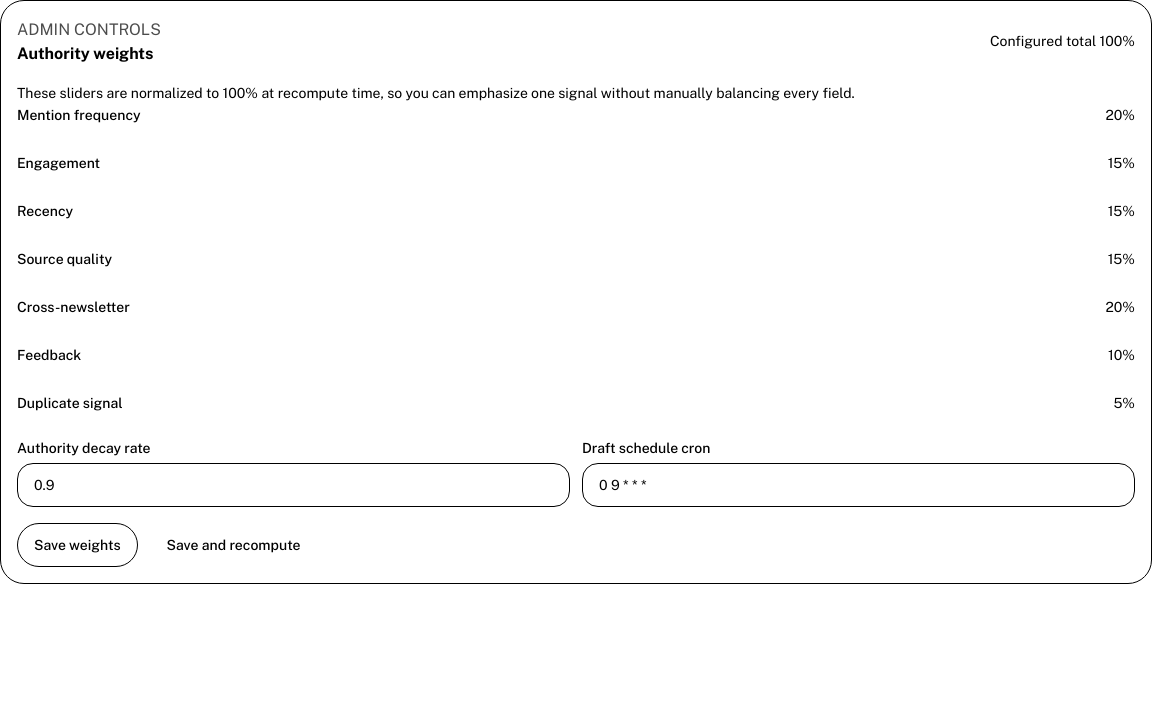
Test: AuthorityWeightControls › saves and recomputes when requested
Click the button "Save and recompute" at coordinates (234, 545), box [150,523,318,567]
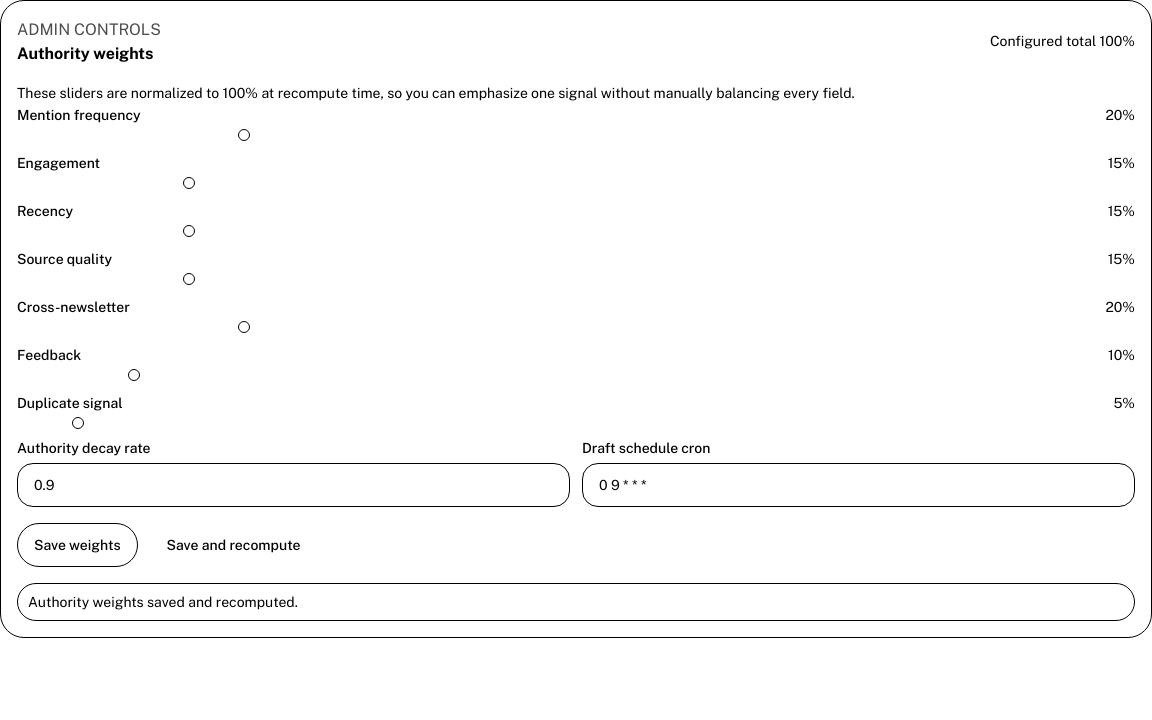
Now the message reads "Authority weights saved and recomputed.", box [28,594,298,610]
